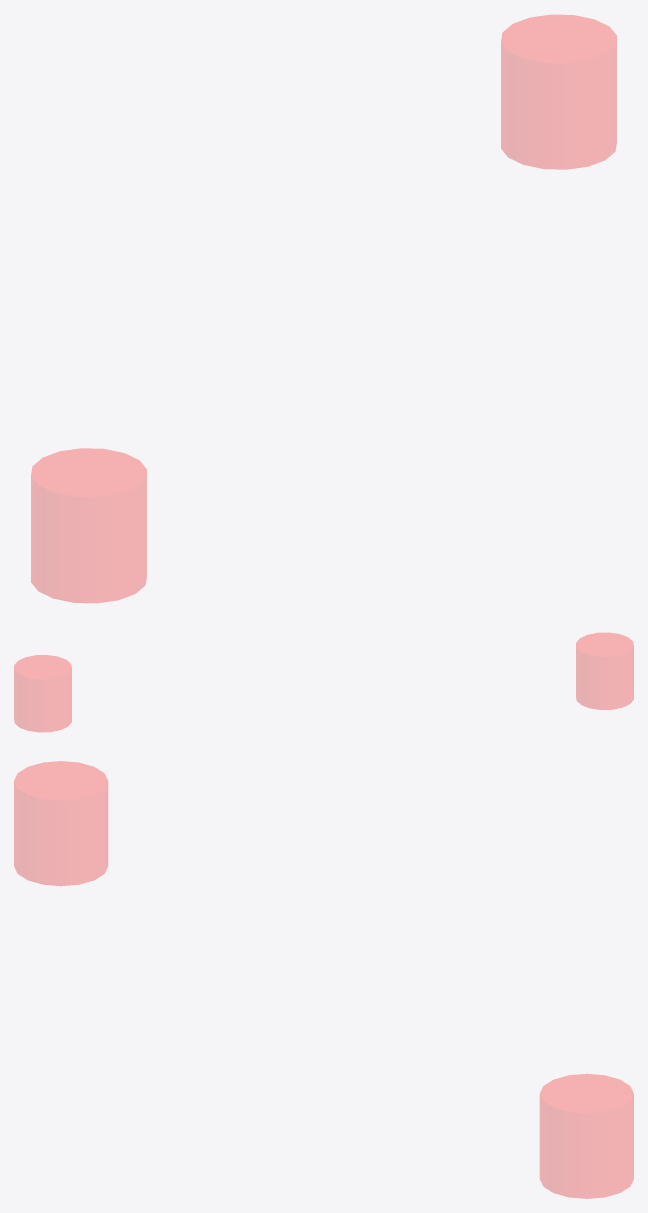
Rendered from s03b_ib2-obstacles.glb.
3 views of the same model, one above another, from view 1: azimuth 30°, elevation 25°; view 2: azimuth 150°, elevation 25°; view 3: azimuth 270°, elevation 25° (orthographic). The views are drawn at different scales.
Parts seen in each view (by area): view 1: boulder-colonly (×2); view 2: boulder-colonly (×2); view 3: boulder-colonly (×2).
Boxes of the visible parts, <box> form: boulder-colonly (×2): <box>31,14,616,603</box>; boulder-colonly (×2): <box>14,632,633,732</box>; boulder-colonly (×2): <box>14,761,633,1198</box>.
Size of the model in its own units: 17.7 by 2 by 13.16.
